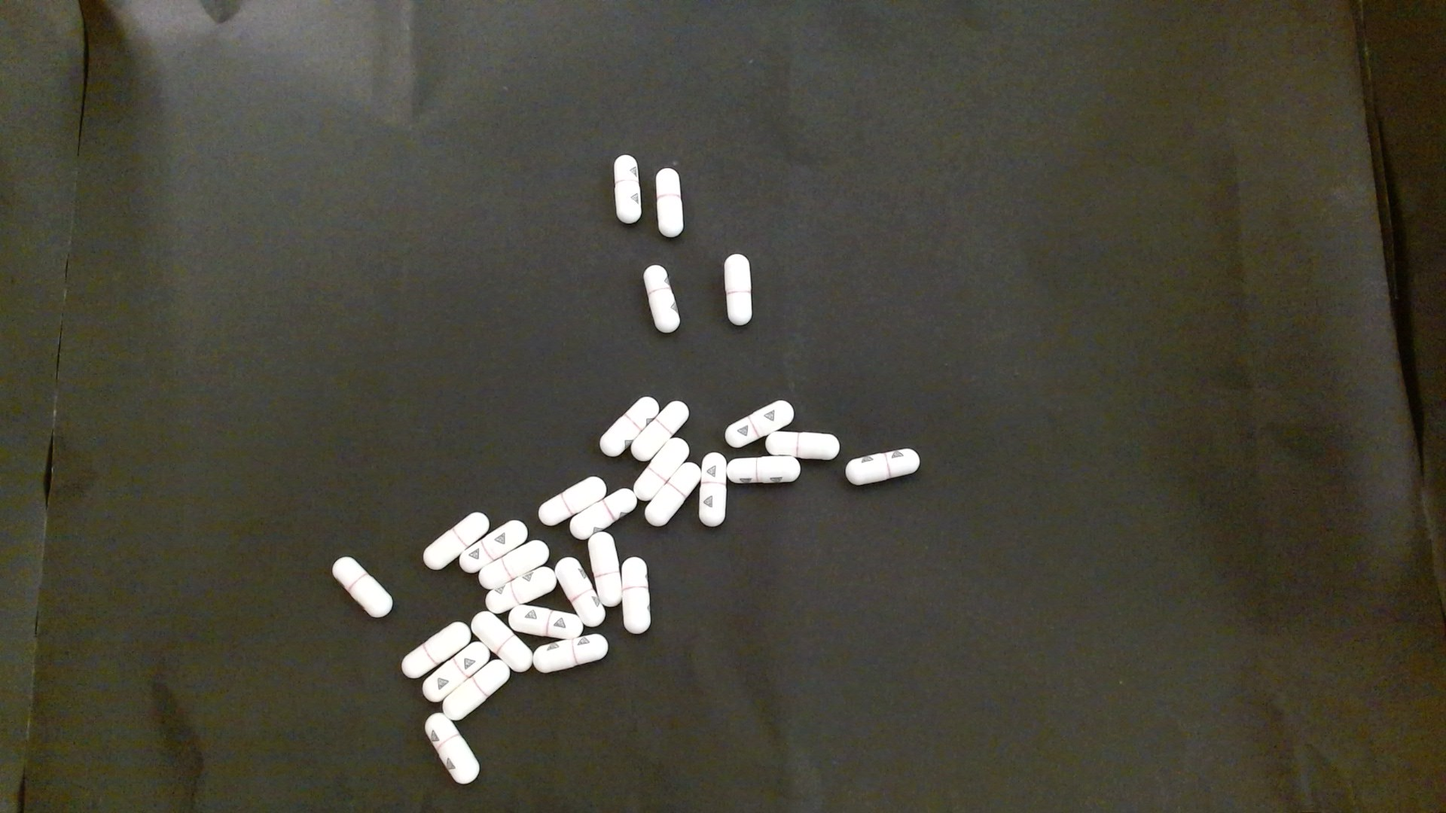Capsule: (399, 620, 473, 681), (420, 640, 491, 703), (440, 658, 510, 721), (421, 510, 489, 571), (643, 460, 704, 527), (481, 564, 558, 617), (554, 555, 608, 629), (331, 557, 394, 620), (425, 712, 480, 783), (458, 517, 526, 574), (477, 538, 550, 591), (632, 436, 691, 501), (596, 396, 658, 457), (537, 476, 608, 528), (471, 611, 532, 671), (630, 400, 688, 462), (568, 488, 636, 540), (725, 399, 792, 448), (508, 601, 585, 641), (533, 635, 606, 673), (845, 449, 918, 486), (587, 532, 622, 607), (643, 263, 680, 333), (620, 556, 651, 633), (766, 431, 837, 461), (728, 455, 799, 485), (654, 167, 683, 238), (724, 253, 752, 326), (613, 152, 641, 224), (700, 453, 726, 525)
